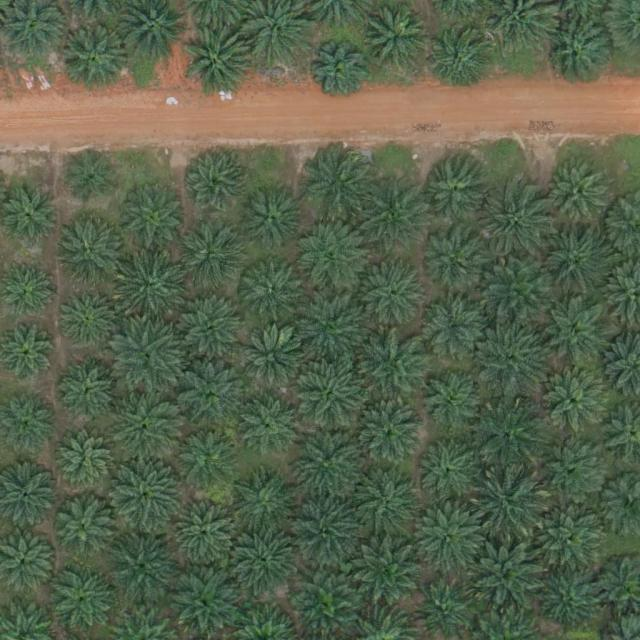Healthy: (531, 505, 602, 576), (484, 257, 555, 328), (420, 224, 491, 295), (295, 225, 366, 296), (112, 325, 183, 396), (109, 392, 180, 463), (112, 457, 183, 528), (50, 217, 121, 288), (538, 435, 608, 506), (542, 366, 612, 437), (544, 298, 614, 369), (481, 187, 551, 258), (472, 322, 542, 393), (473, 544, 543, 615), (419, 156, 489, 227), (354, 184, 424, 255), (354, 260, 425, 330), (352, 399, 422, 470), (350, 472, 420, 543), (352, 540, 422, 611), (300, 152, 370, 223), (292, 492, 362, 563), (232, 522, 302, 593), (178, 357, 248, 428), (116, 183, 186, 254), (105, 536, 175, 607), (542, 17, 612, 88), (362, 7, 432, 78), (62, 22, 132, 93), (538, 229, 608, 299), (476, 400, 546, 470), (415, 504, 485, 574), (364, 330, 434, 400), (297, 295, 367, 365), (298, 360, 368, 430), (294, 424, 364, 494), (241, 327, 311, 397), (228, 475, 298, 545), (116, 255, 186, 325), (184, 28, 254, 98), (544, 163, 607, 226), (424, 301, 487, 364), (242, 266, 305, 329), (59, 361, 122, 424), (540, 574, 602, 637), (416, 436, 478, 499), (420, 373, 483, 435), (243, 185, 305, 248), (238, 396, 300, 459), (175, 429, 237, 492), (181, 296, 243, 359), (54, 570, 116, 633), (54, 493, 116, 556), (54, 427, 116, 490), (428, 31, 490, 94), (292, 571, 354, 633), (175, 503, 237, 565), (177, 225, 239, 287), (184, 152, 246, 214), (64, 149, 119, 204), (60, 292, 115, 347), (311, 46, 365, 101)
Yellow: (477, 470, 547, 541)
